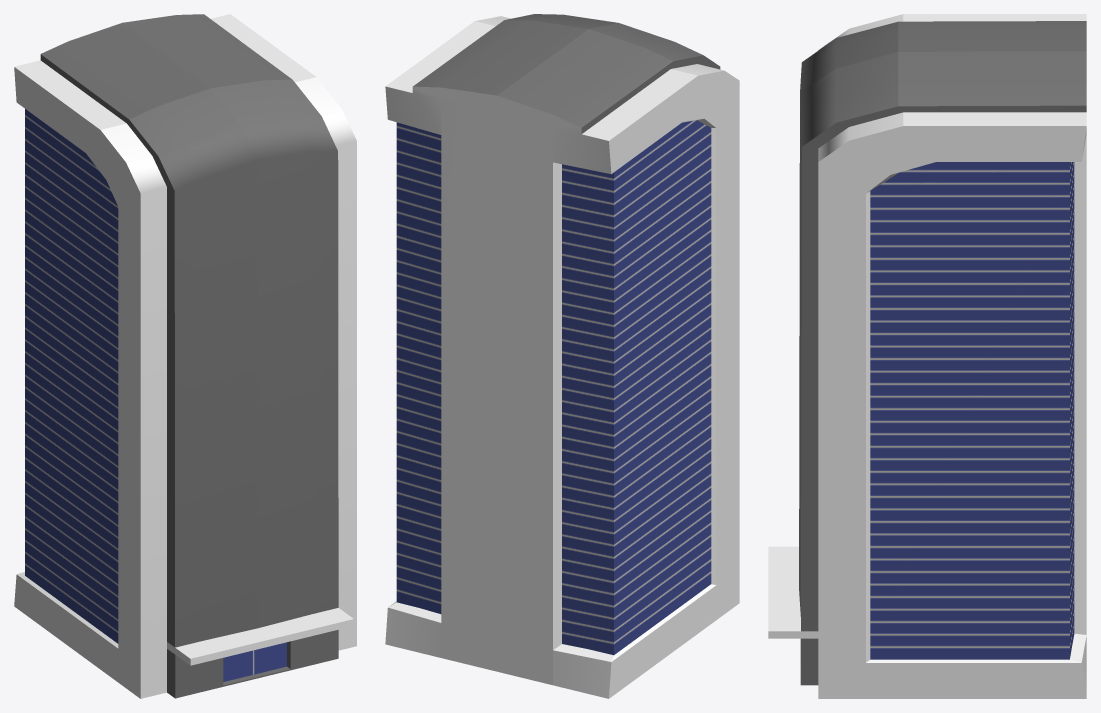
The model's file is Building1_Small_Asset.fbx.
3 renders of one model, left to right at view 1: azimuth 30°, elevation 25°; view 2: azimuth 150°, elevation 25°; view 3: azimuth 270°, elevation 25°, orthographic. The views are drawn at different scales.
Parts seen in each view (by area): view 1: Building1_Asset; view 2: Building1_Asset; view 3: Building1_Asset.
Boxes of the visible parts, <box> form: Building1_Asset: <box>14,14,356,698</box>; Building1_Asset: <box>385,14,739,698</box>; Building1_Asset: <box>768,14,1086,698</box>.
Size of the model in its own units: 15.2 by 37.44 by 18.26.
